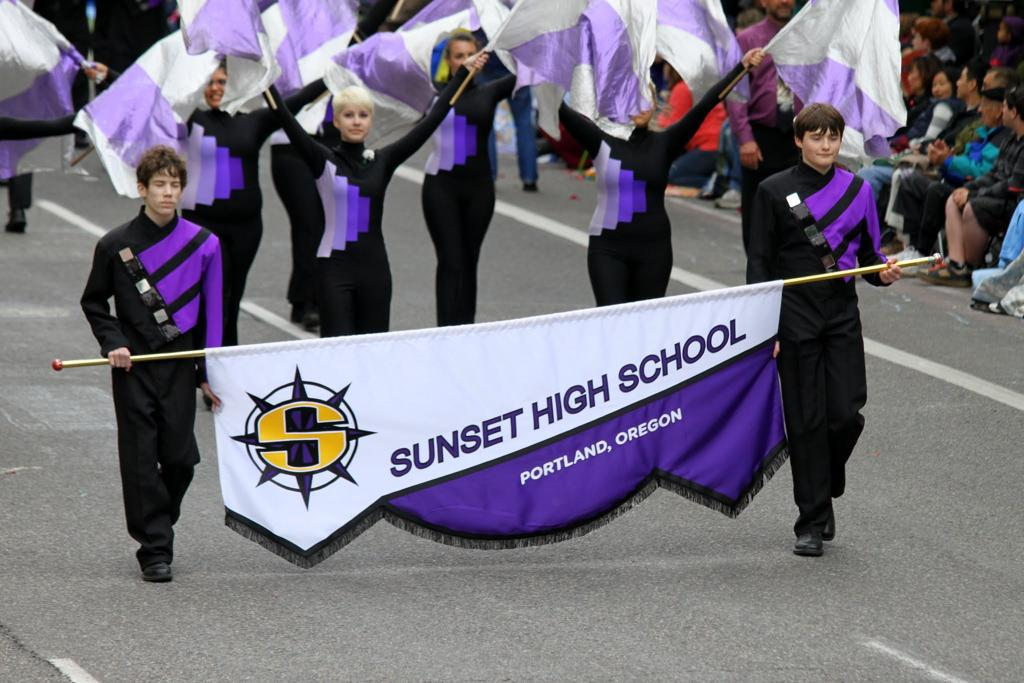face: (805, 128, 842, 165), (151, 172, 181, 216), (624, 86, 655, 124), (205, 69, 235, 108), (341, 105, 371, 141), (450, 41, 478, 79), (978, 95, 997, 125), (956, 68, 972, 98), (932, 76, 951, 101), (768, 1, 794, 19), (1001, 97, 1012, 127), (931, 1, 948, 20), (907, 67, 920, 90), (913, 28, 927, 49), (997, 23, 1008, 40)
